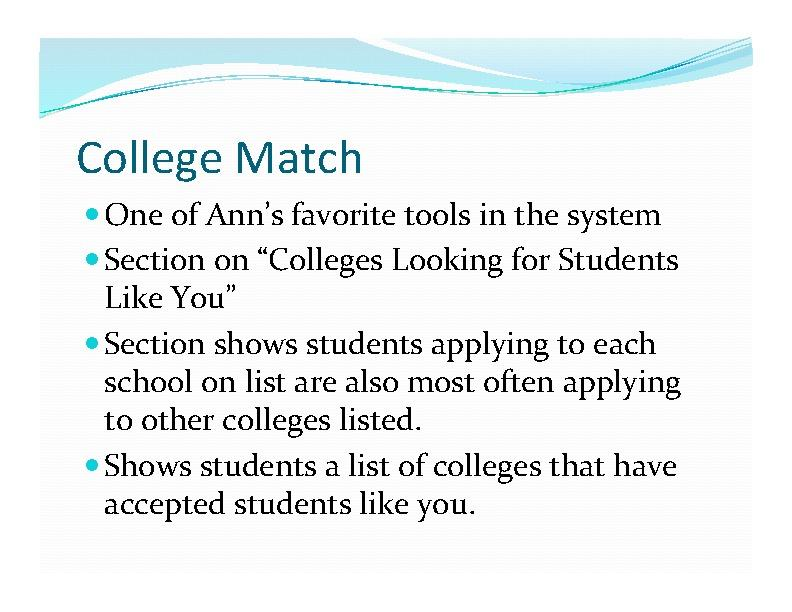paragraph: (81, 194, 717, 543)
title: (62, 131, 376, 186)
